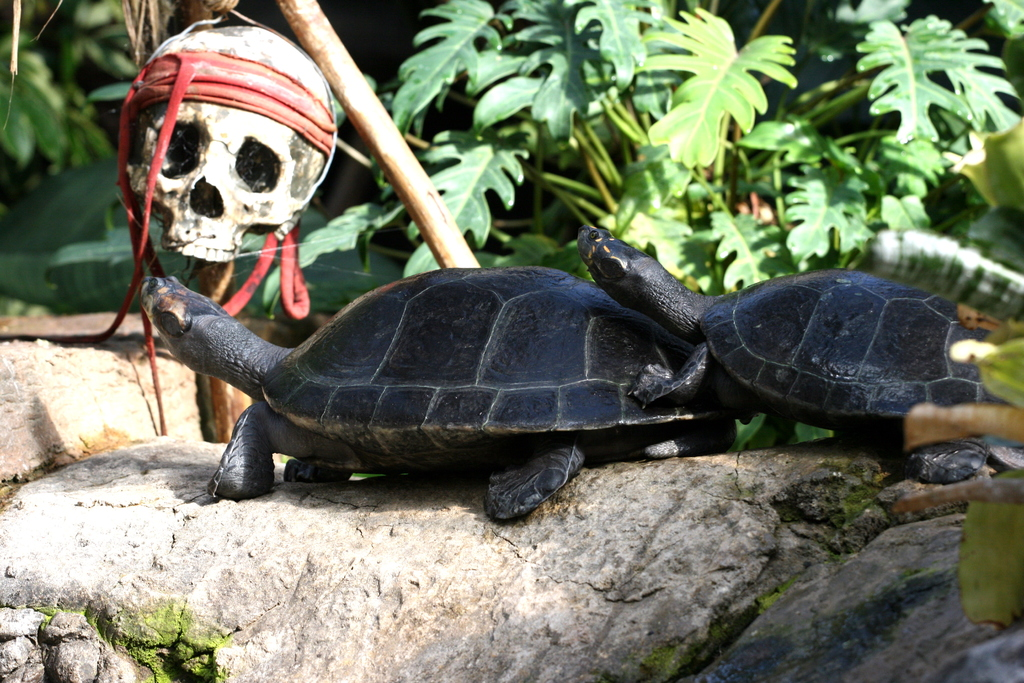Sea turtles: (131, 258, 757, 523), (577, 225, 1015, 489)
